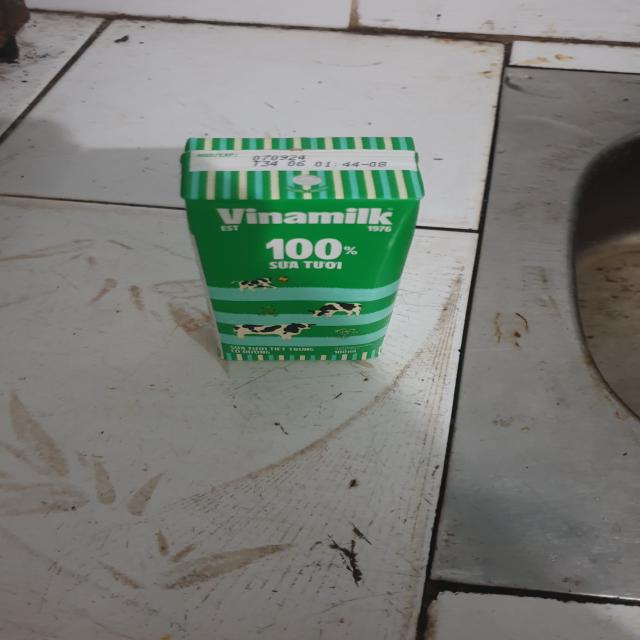Vina: (181, 137, 426, 365)
